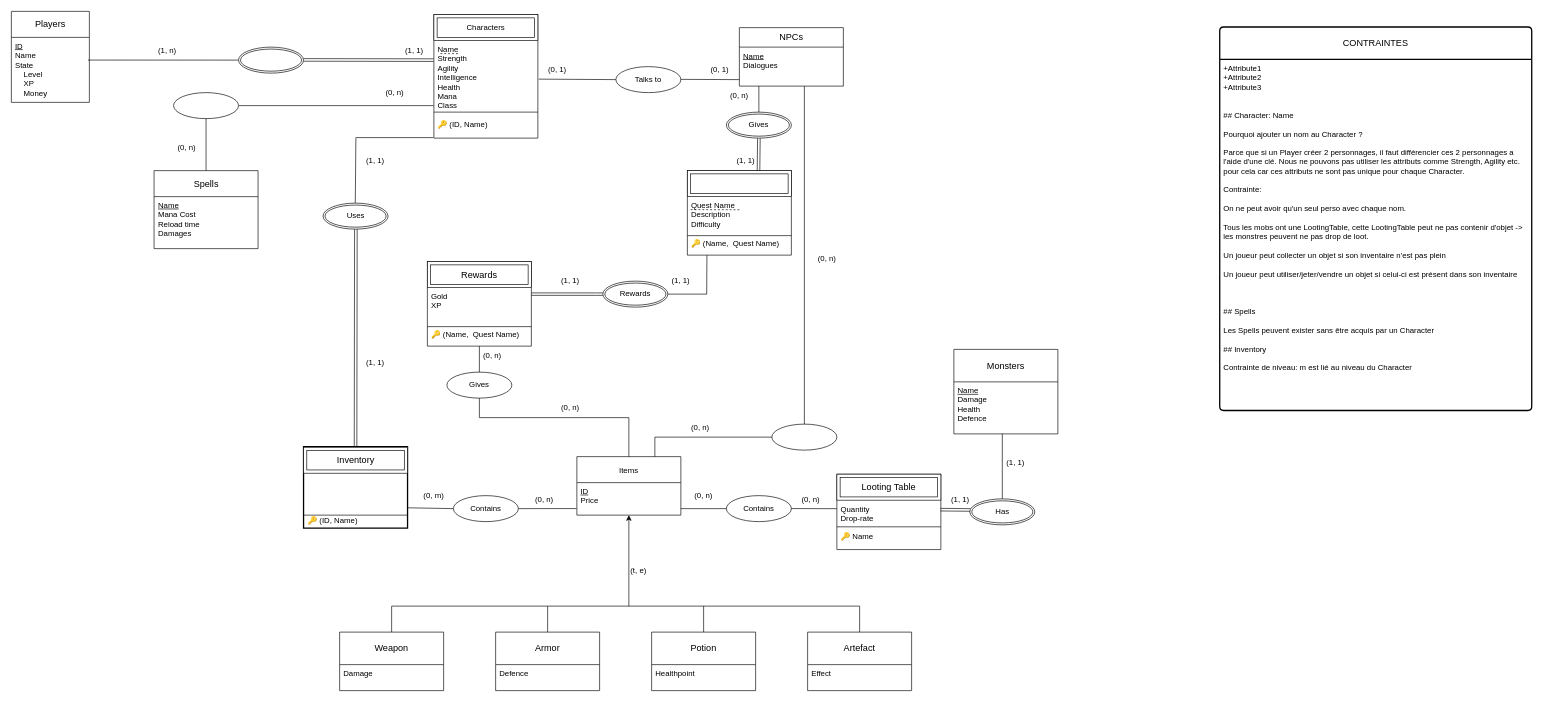
This 1544x702 diagram has some shape labels left out. The centre of each missing label's shape, as x and y in pixels:
"Creates" goes at pixel 271 59.
"Fights with" goes at pixel 206 105.
"Quests" goes at pixel 739 183.
"Sells" goes at pixel 804 436.
